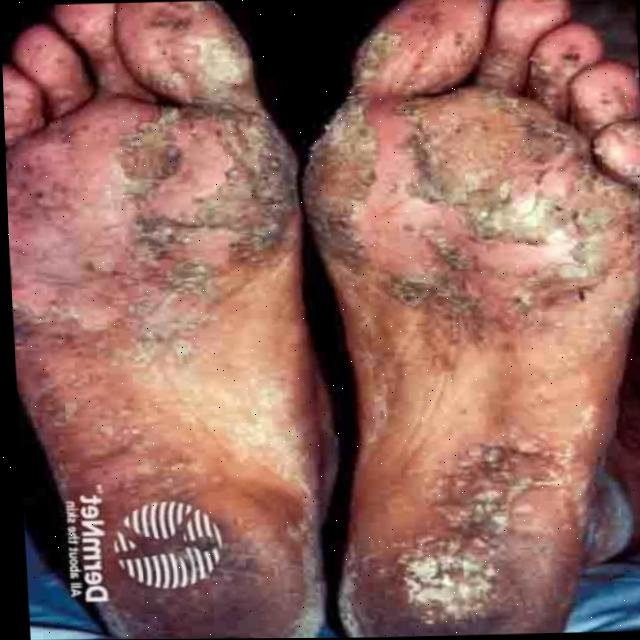Eczema: (0, 4, 311, 609), (339, 86, 627, 616)
